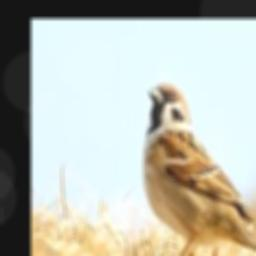Sparrow: (143, 84, 256, 256)
